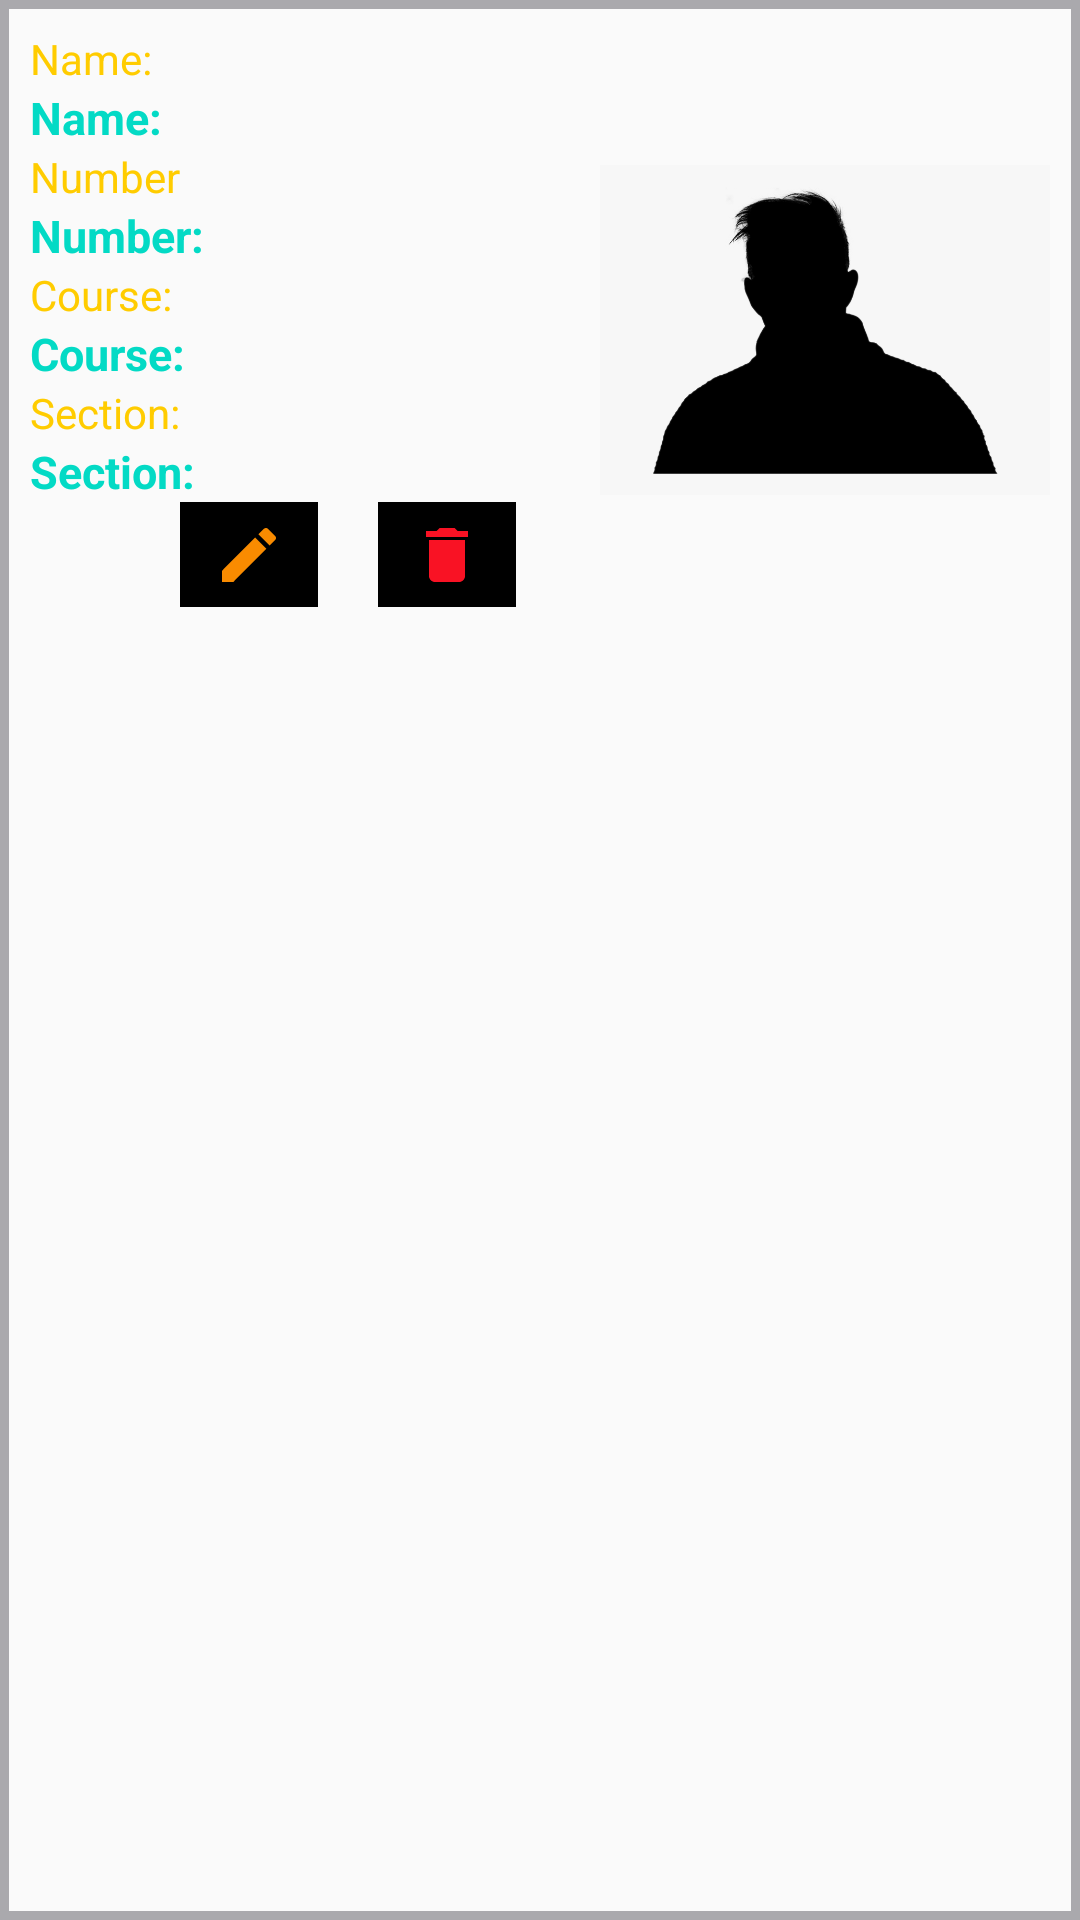

Icons on this 1080px x 1920px Android screen, each with its box as (x1,y1,x2,y2):
delete: (378,502,516,607)
empty profile: (653,191,998,474)
mode edit: (180,502,318,607)
